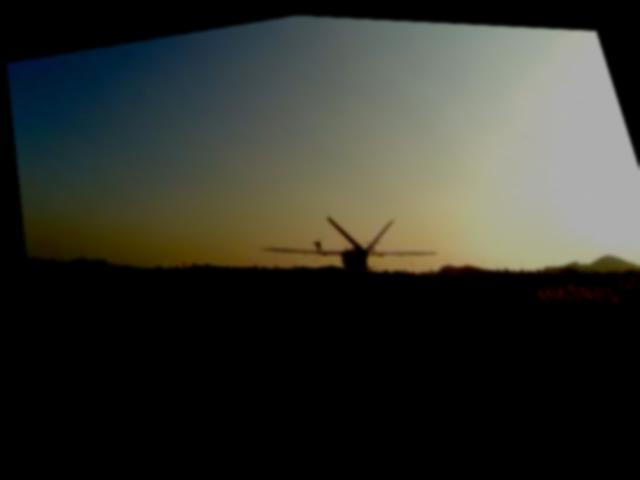uav: (239, 185, 454, 306)
